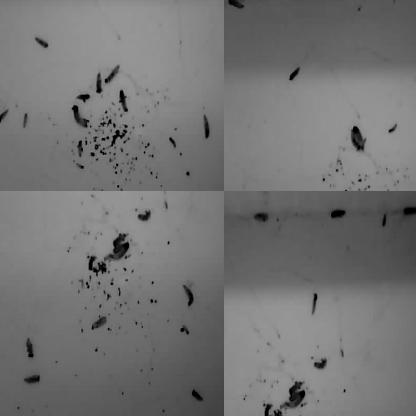PtecticusTenebrifer: (71, 103, 87, 129), (107, 243, 130, 260), (283, 391, 306, 408), (182, 283, 195, 308), (104, 64, 119, 84), (354, 126, 366, 150), (202, 112, 212, 140), (288, 64, 302, 83), (91, 316, 108, 330), (330, 208, 348, 221), (350, 129, 360, 151), (119, 90, 128, 114), (191, 388, 205, 403), (136, 209, 152, 222), (312, 357, 328, 370), (25, 338, 34, 360), (34, 36, 48, 50), (227, 0, 245, 10), (24, 374, 40, 385), (311, 292, 318, 316), (0, 109, 10, 123), (402, 206, 416, 216), (96, 72, 102, 94), (0, 91, 7, 108), (153, 191, 171, 197), (113, 0, 126, 8), (390, 123, 398, 136), (23, 113, 29, 130), (0, 138, 5, 158), (76, 94, 90, 101), (134, 191, 142, 203), (0, 118, 6, 133), (152, 0, 165, 4), (0, 0, 5, 10), (0, 0, 9, 4)
